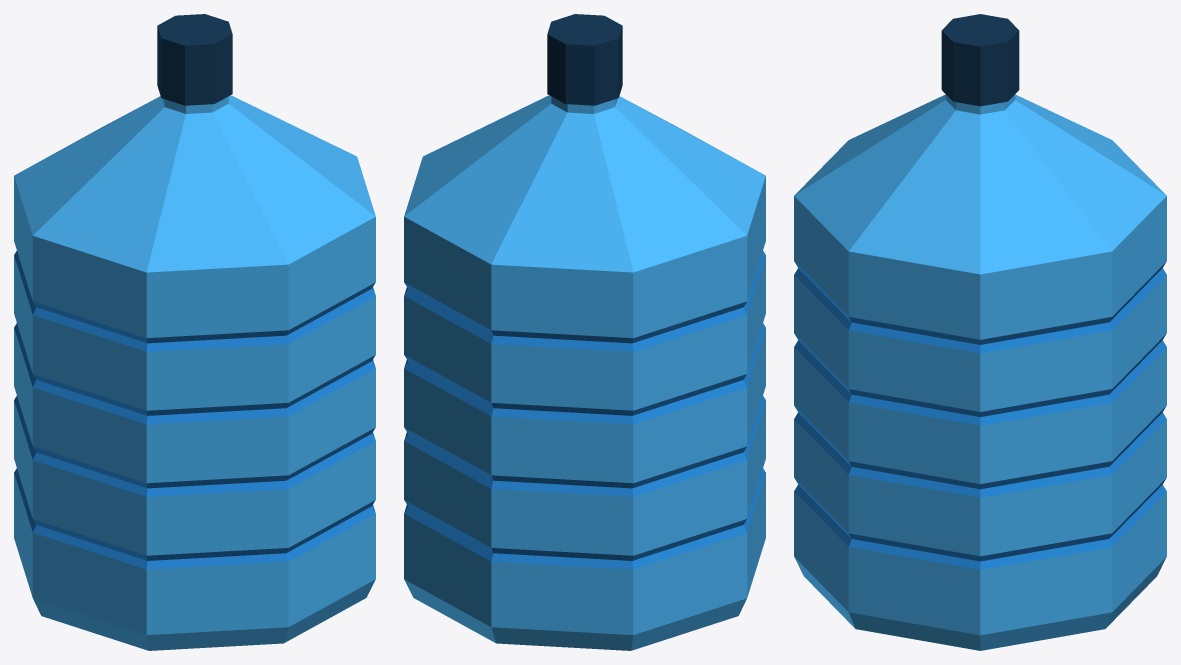
Rendered from Jug.fbx.
3 views of the same model, side by side, from view 1: azimuth 30°, elevation 25°; view 2: azimuth 150°, elevation 25°; view 3: azimuth 270°, elevation 25° (orthographic).
Visible parts, largest first — view 1: Jug; view 2: Jug; view 3: Jug.
Part boxes in pixels (x1,y1,x2,y2): Jug: (14,14,375,650); Jug: (404,14,765,650); Jug: (794,14,1166,650).
Bounding box in the file's own units: 74.77 × 123 × 74.77.
